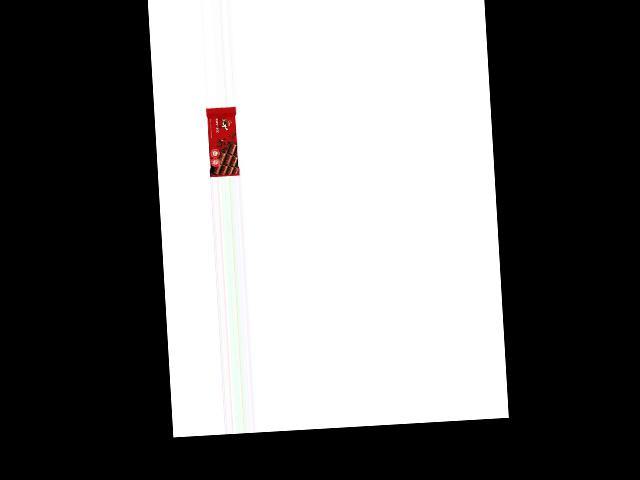chocolate: (205, 105, 239, 177)
